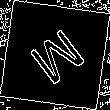M_SE: (22, 21, 88, 89)
